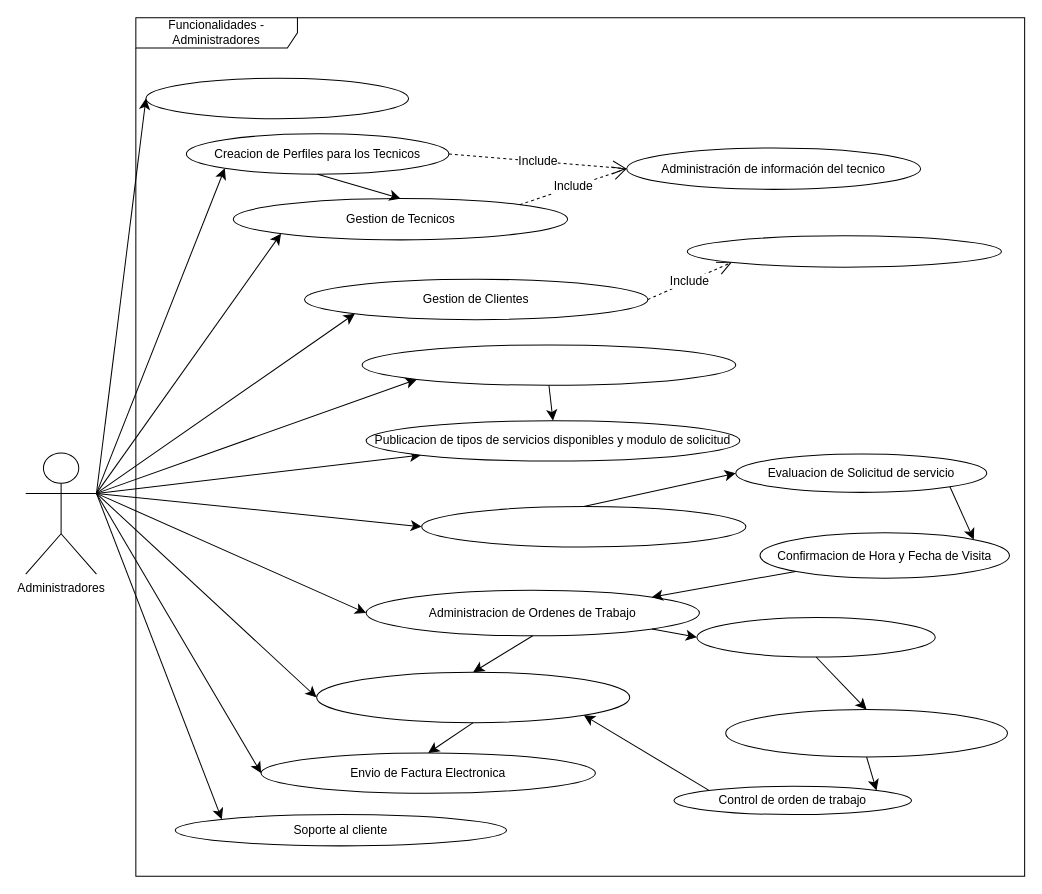
The diagram is 1042 pixels wide and 894 high, and some of its shapes have lost their labels. Here are the shapes that lost their labels. From the top down, the centre of each, then its label:
At point 277,98: "Ingreso y Verificacion de Rol".
At point 843,251: "Administración de información del cliente".
At point 548,364: "Creacion de tipos de servicios disponibles".
At point 583,526: "Gestion de Solicitud de servicio".
At point 815,637: "Creacion de Orden de Trabajo".
At point 473,697: "Administración y gestión de pago y medios de pago".
At point 866,733: "Asignacion de Orden de trabajo a un Tecnico".
